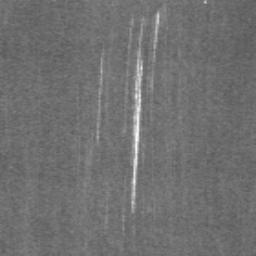Bright scratch: (131, 24, 144, 212), (124, 15, 133, 133), (152, 10, 159, 91), (97, 58, 103, 140)
